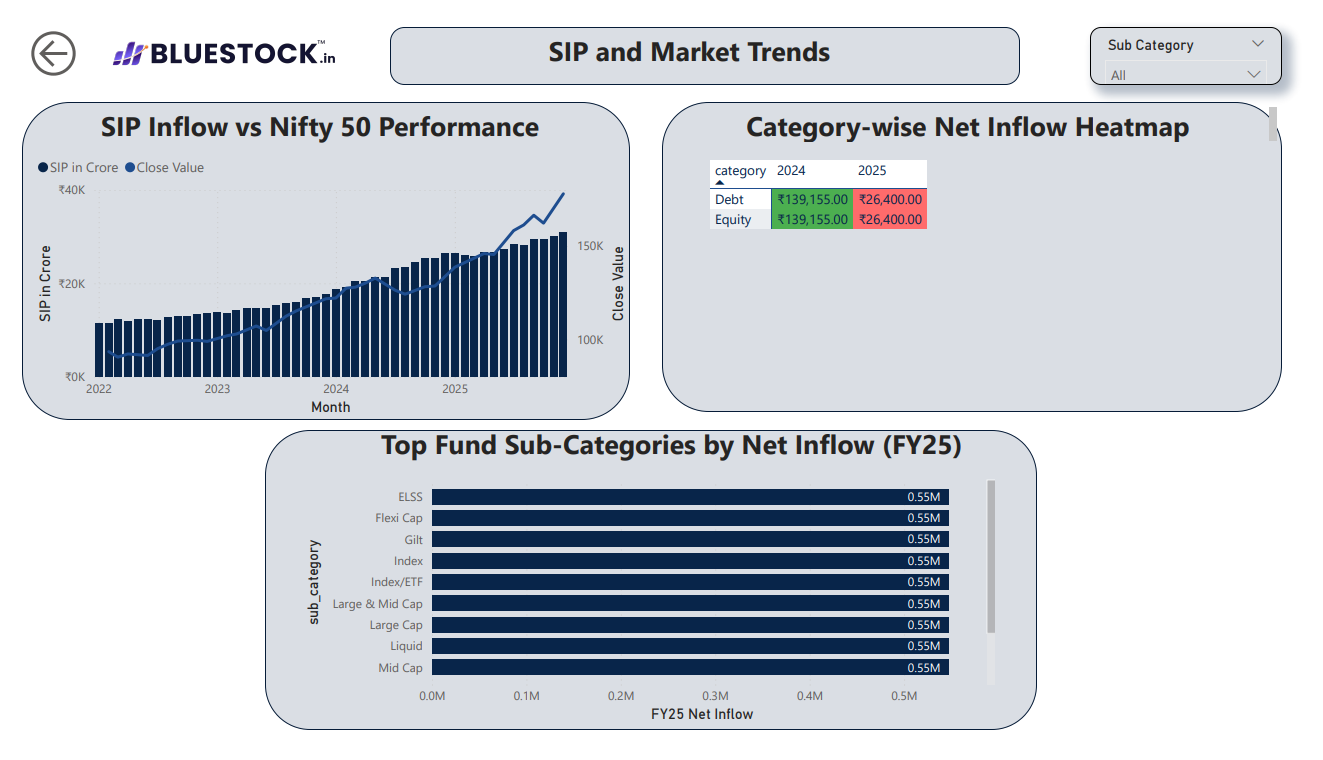

What the dashboard file says about the page in this screenshot:
{"tool":"powerbi","page":{"name":"Page 4 — SIP & Market Trends","canvas":[1280,720],"ordinal":3},"visuals":[{"type":"shape","box":[640,80,620,310],"z":0},{"type":"shape","box":[242.5,407.5,772.5,300],"z":1000},{"type":"shape","box":[0,80,608,318],"z":2000},{"type":"lineStackedColumnComboChart","fields":{"Category":["04_monthly_sip_inflows.month"],"Y2":["Sum(10_benchmark_indices.close_value)"],"Y":["Sum(04_monthly_sip_inflows.sip_inflow_crore)"]},"box":[10,125,597.5,272.5],"z":3000},{"type":"pivotTable","fields":{"Rows":["01_fund_master.category"],"Values":["Sum(04_monthly_sip_inflows.sip_inflow_crore)"],"Columns":["05_category_inflows.month.Variation.Date Hierarchy.Year"]},"box":[682.5,132.5,532.5,207.5],"z":4000},{"type":"clusteredBarChart","fields":{"Category":["01_fund_master.sub_category"],"Y":["01_fund_master.FY25 Net Inflow"]},"box":[277.5,445,700,260],"z":5000},{"type":"actionButton","box":[2.5,2.5,75,57.5],"z":6000},{"type":"image","box":[85,0,235,60],"z":7000},{"type":"textbox","box":[40,80,520,52.5],"z":9000},{"type":"textbox","box":[640,80,620,45],"z":10000},{"type":"textbox","box":[40,397.5,1220,47.5],"z":11000},{"type":"shape","box":[367.5,5,630,57.5],"z":13000},{"type":"textbox","box":[385,5,565,57.5],"z":14000},{"type":"slicer","fields":{"Values":["01_fund_master.sub_category"]},"box":[1067.5,5,192.5,57.5],"z":14001}]}

Visuals, with their boxes in screenshot pixels (x1, y1, x2, y2), scaled from the page's 1280x720 canvas onto the 1323x760 screenshot:
shape: 662/84/1302/412
shape: 251/430/1049/747
shape: 0/84/628/420
lineStackedColumnComboChart - 04_monthly_sip_inflows.month x Sum(10_benchmark_indices.close_value): 10/132/628/420
pivotTable - 01_fund_master.category x Sum(04_monthly_sip_inflows.sip_inflow_crore): 705/140/1256/359
clusteredBarChart - 01_fund_master.sub_category x 01_fund_master.FY25 Net Inflow: 287/470/1010/744
actionButton: 3/3/80/63
image: 88/0/331/63
textbox: 41/84/579/140
textbox: 662/84/1302/132
textbox: 41/420/1302/470
shape: 380/5/1031/66
textbox: 398/5/982/66
slicer - 01_fund_master.sub_category: 1103/5/1302/66
